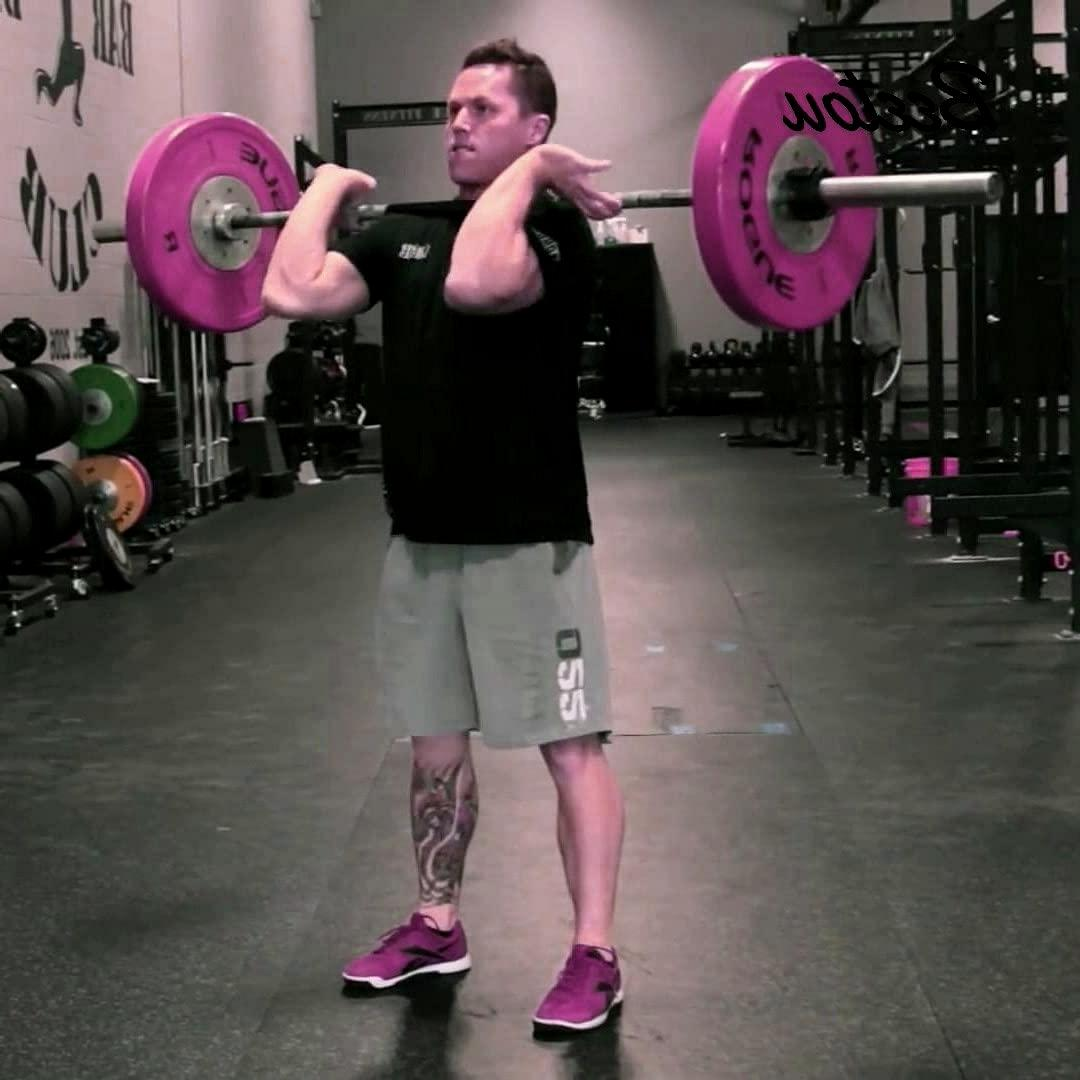Barbell: (977, 168, 1005, 206)
